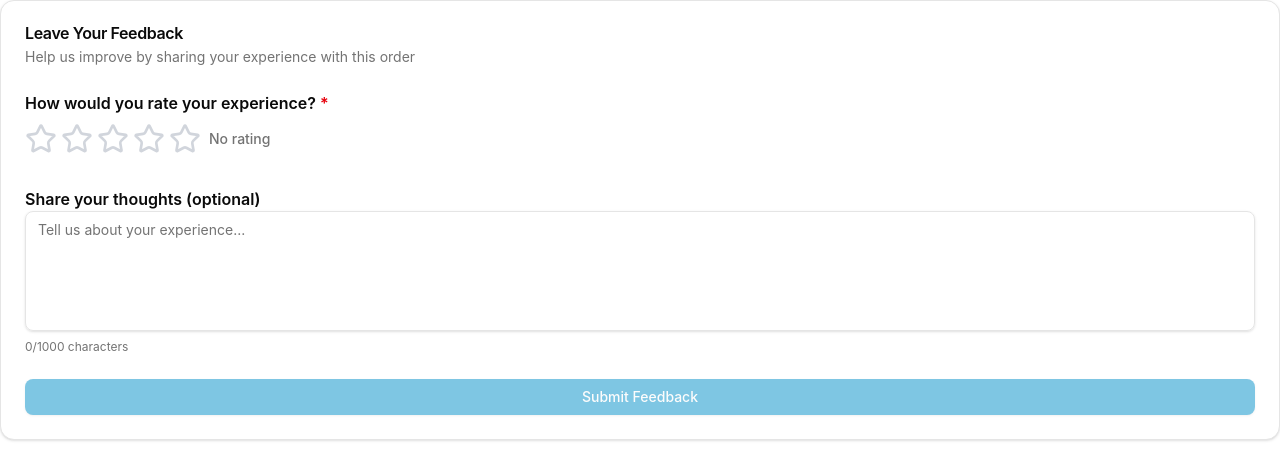
FeedbackForm › Star Rating Interaction › updates rating when star is clicked
Click the button named "Rate 4 out of 5 stars": click(149, 139) [133,123,165,155]
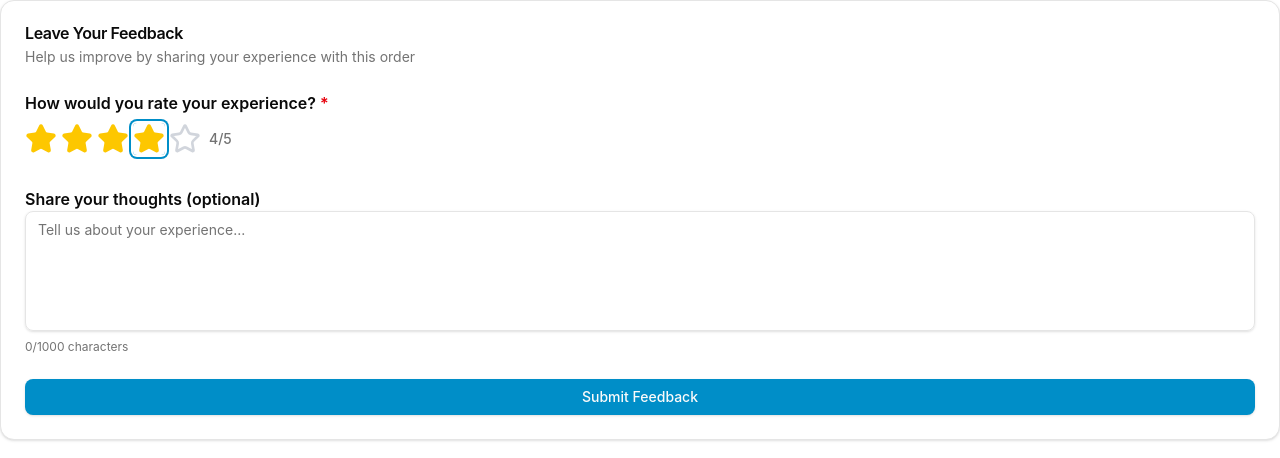
Expected: the text "4/5" is shown, [209,129,232,149]
